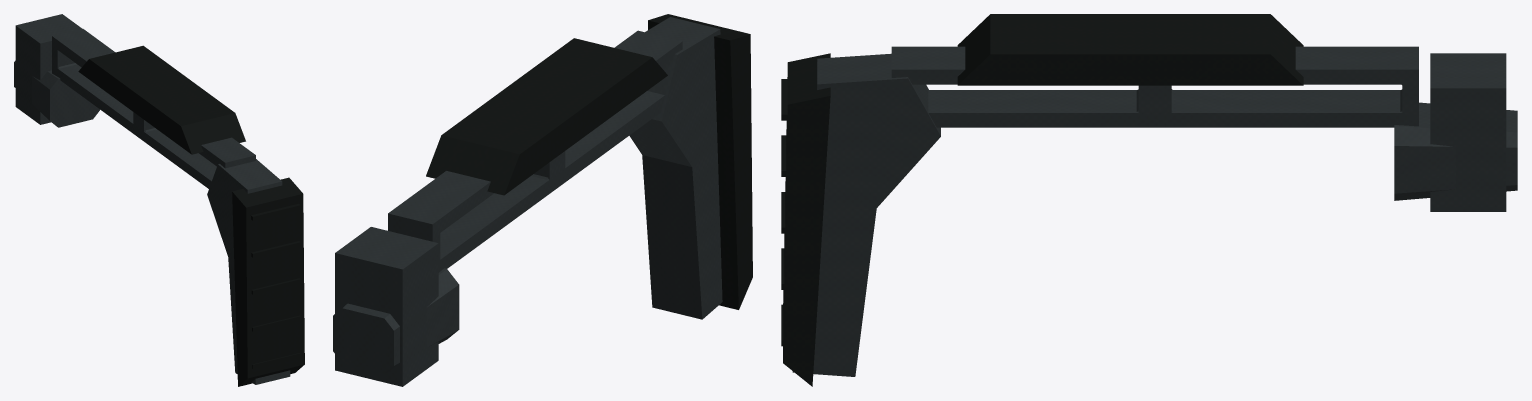
File: mcx_stock.glb
The picture shows the model from 3 angles, left to right: view 1: azimuth 30°, elevation 25°; view 2: azimuth 150°, elevation 25°; view 3: azimuth 270°, elevation 25°; orthographic projection. The views are drawn at different scales.
Visible parts, largest first — view 1: stock__mcx_stock_LOD0_RAID_Secondary_Original_rubber, stock__mcx_stock_LOD0_RAID_Secondary_Original_steel, stock__mcx_stock_LOD1_RAID_Secondary_Original_steel, stock__mcx_stock_LOD1_RAID_Secondary_Original_rubber; view 2: stock__mcx_stock_LOD0_RAID_Secondary_Original_steel, stock__mcx_stock_LOD0_RAID_Secondary_Original_rubber, stock__mcx_stock_LOD1_RAID_Secondary_Original_steel, stock__mcx_stock_LOD1_RAID_Secondary_Original_rubber; view 3: stock__mcx_stock_LOD0_RAID_Secondary_Original_steel, stock__mcx_stock_LOD0_RAID_Secondary_Original_rubber, stock__mcx_stock_LOD1_RAID_Secondary_Original_steel, stock__mcx_stock_LOD1_RAID_Secondary_Original_rubber.
Boxes of the visible parts, box(x1,y1,x2,y2) form: stock__mcx_stock_LOD0_RAID_Secondary_Original_rubber: box(78, 45, 303, 384); stock__mcx_stock_LOD0_RAID_Secondary_Original_steel: box(14, 14, 290, 384); stock__mcx_stock_LOD1_RAID_Secondary_Original_steel: box(52, 28, 255, 188); stock__mcx_stock_LOD1_RAID_Secondary_Original_rubber: box(232, 177, 304, 386); stock__mcx_stock_LOD0_RAID_Secondary_Original_steel: box(333, 17, 722, 386); stock__mcx_stock_LOD0_RAID_Secondary_Original_rubber: box(426, 15, 751, 307); stock__mcx_stock_LOD1_RAID_Secondary_Original_steel: box(388, 30, 682, 271); stock__mcx_stock_LOD1_RAID_Secondary_Original_rubber: box(648, 14, 752, 309); stock__mcx_stock_LOD0_RAID_Secondary_Original_steel: box(792, 47, 1517, 376); stock__mcx_stock_LOD0_RAID_Secondary_Original_rubber: box(781, 14, 1303, 382); stock__mcx_stock_LOD1_RAID_Secondary_Original_steel: box(891, 46, 1418, 127); stock__mcx_stock_LOD1_RAID_Secondary_Original_rubber: box(783, 53, 830, 386).
Size of the model in its own units: 0.061 by 0.222 by 0.447.
Materials: 2 (2 with a texture image).
